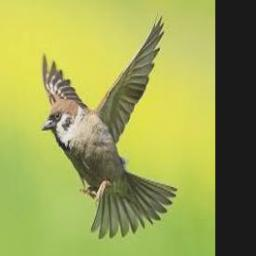Sparrow: (42, 13, 177, 239)
